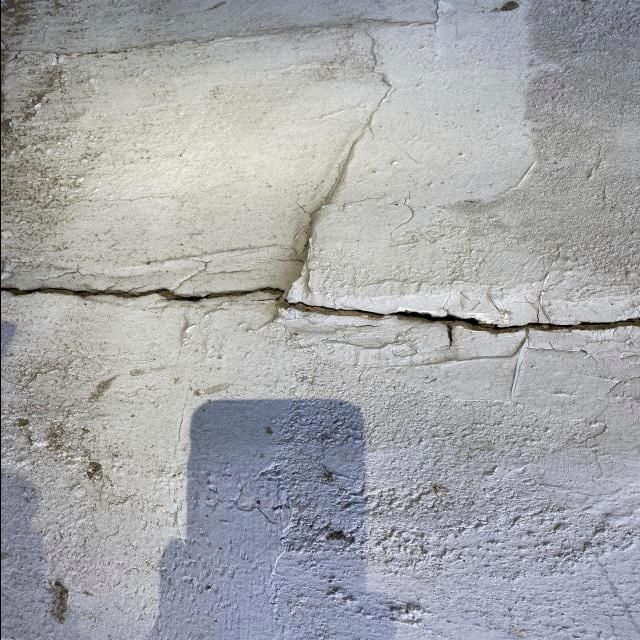SurfaceCrack: (1, 221, 640, 397), (3, 1, 457, 132)
